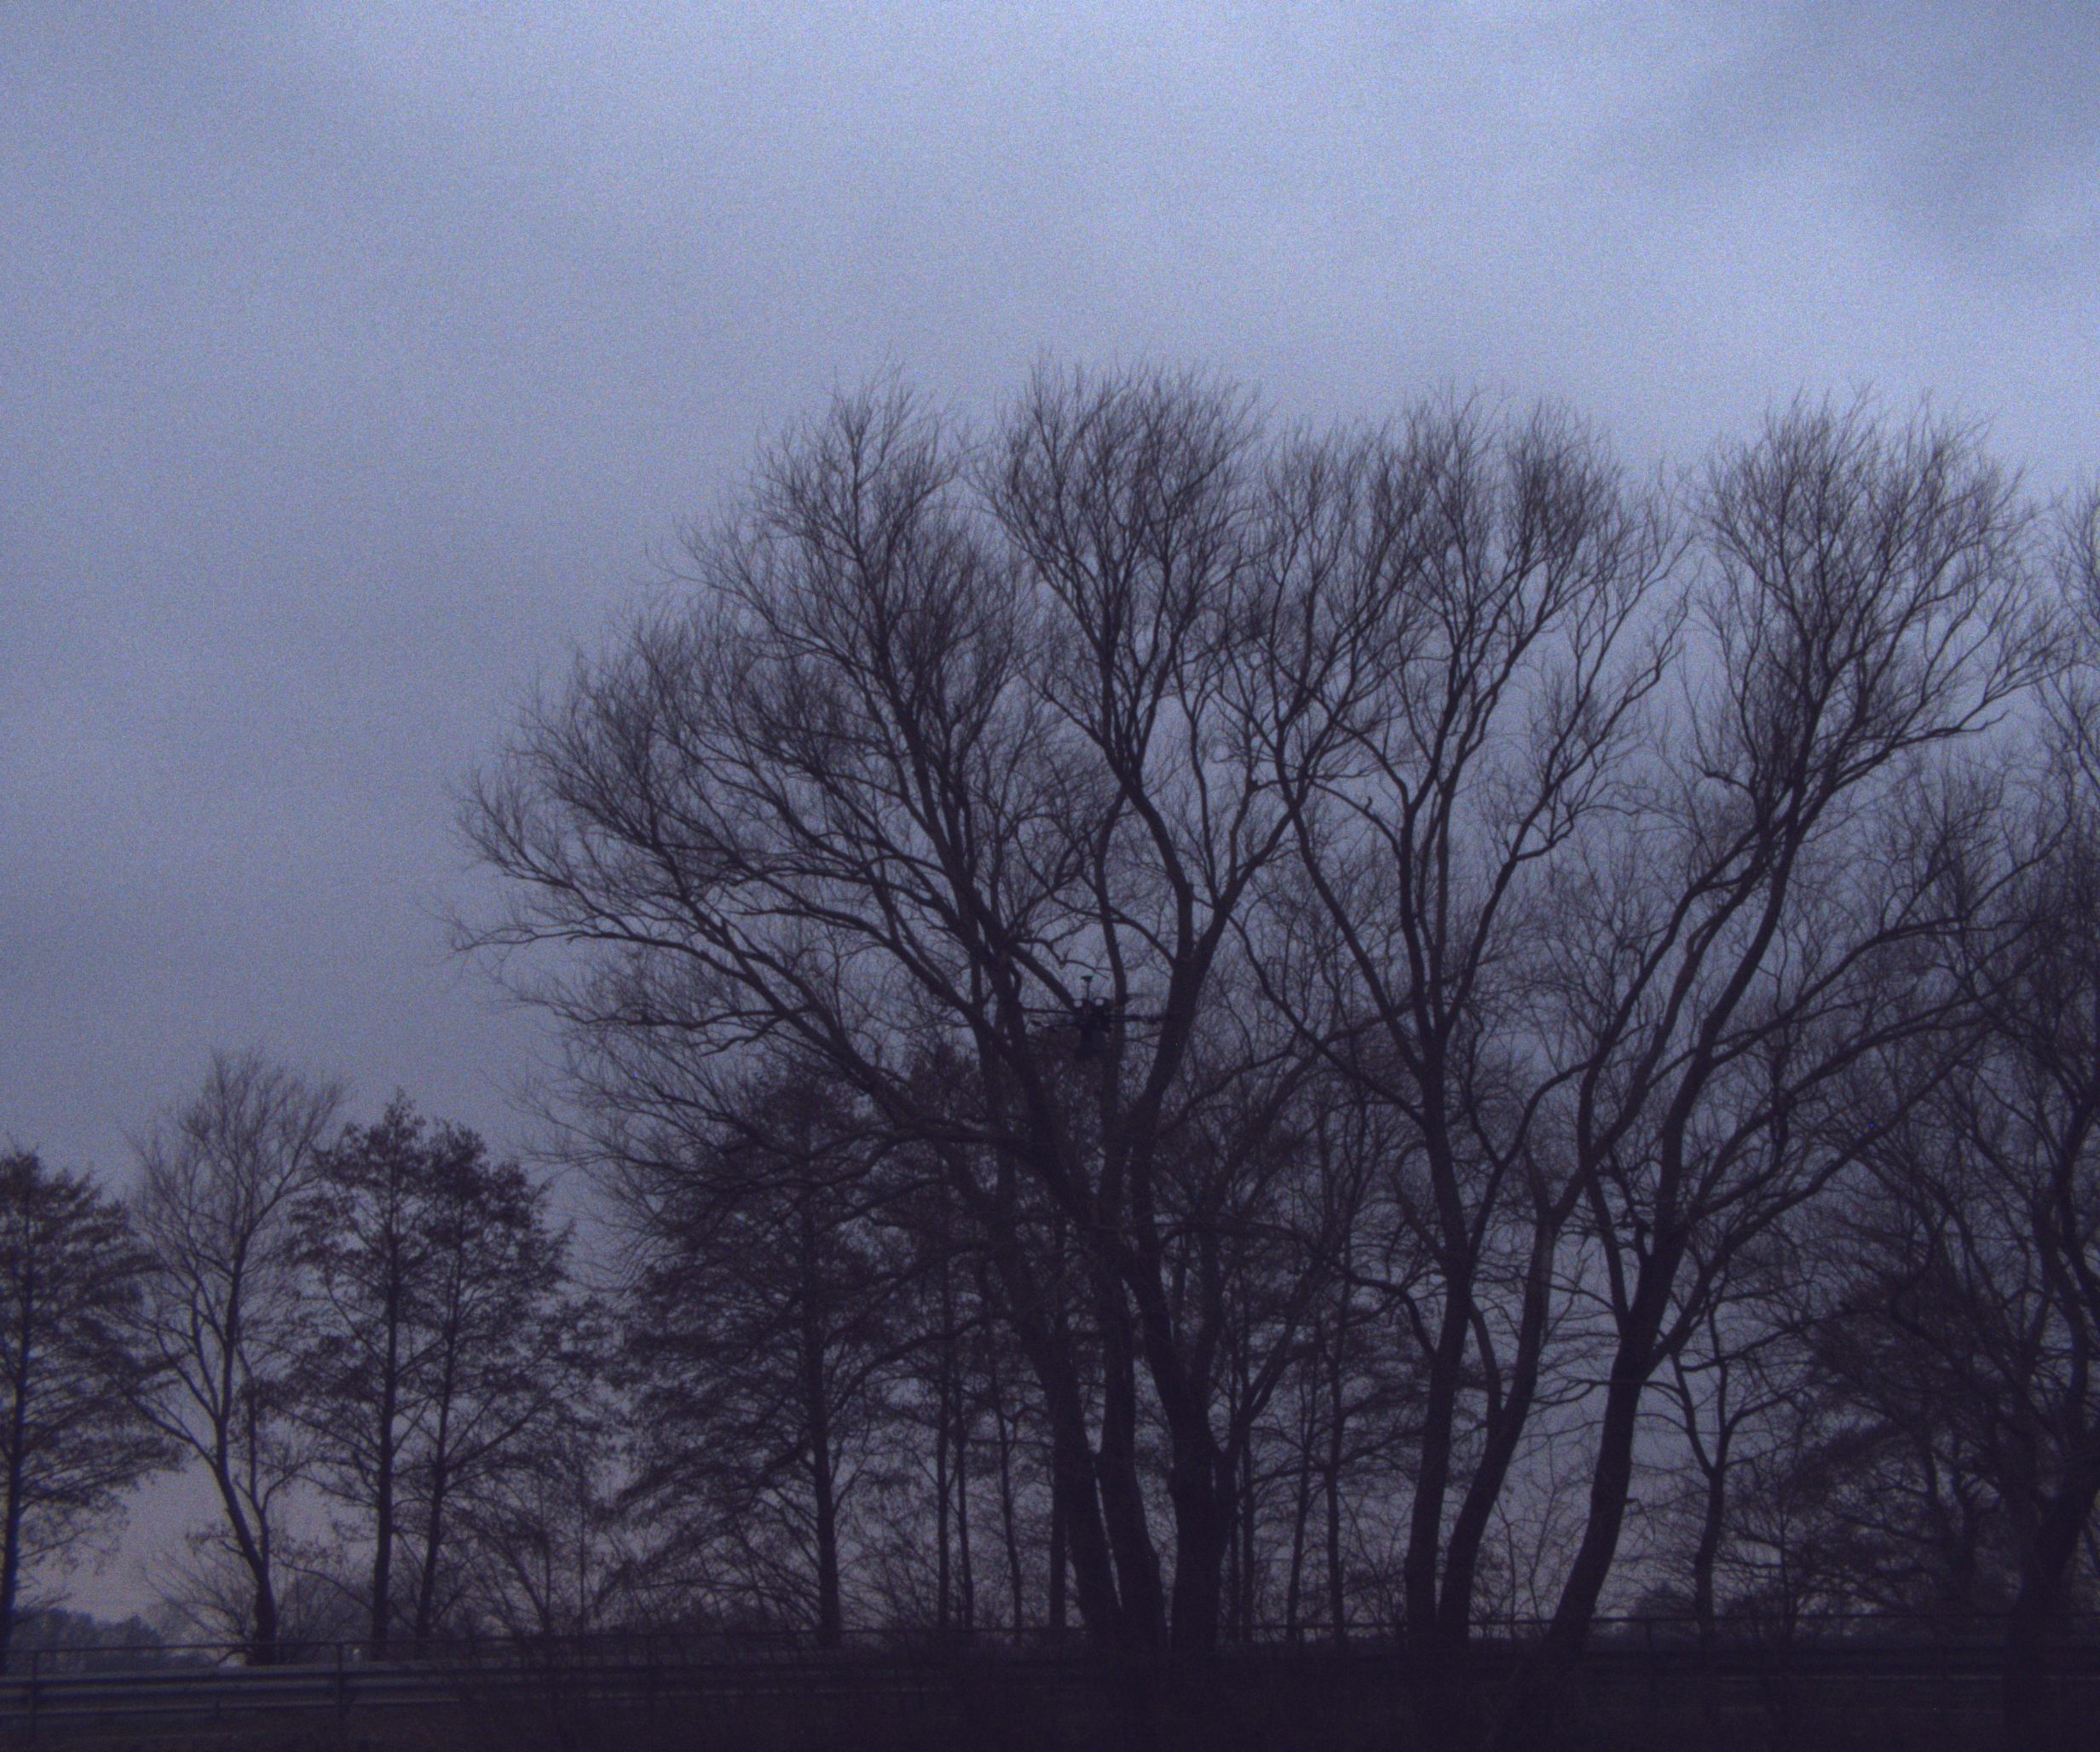Drohne: (1019, 954, 1202, 1074)
